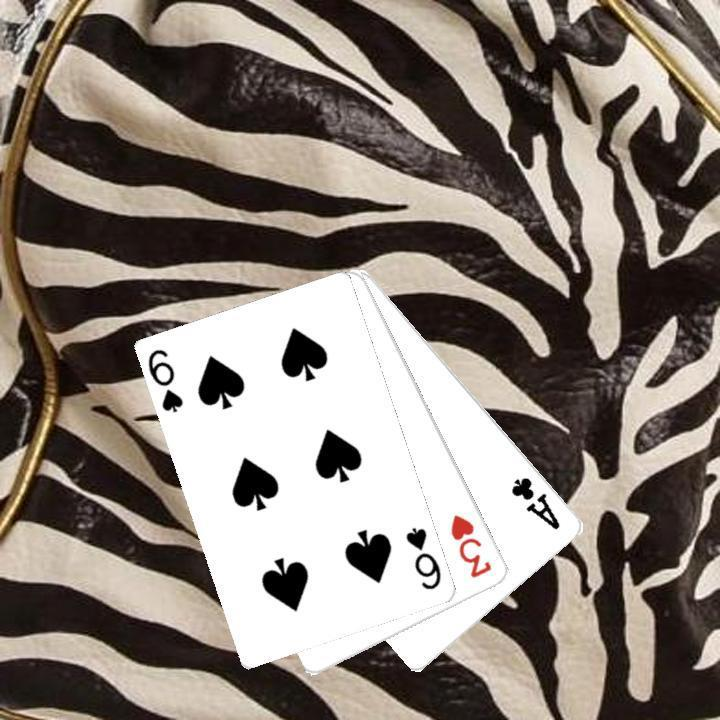3: (446, 510, 494, 581)
6: (144, 345, 186, 415), (402, 523, 444, 592)
A: (507, 472, 563, 532)
